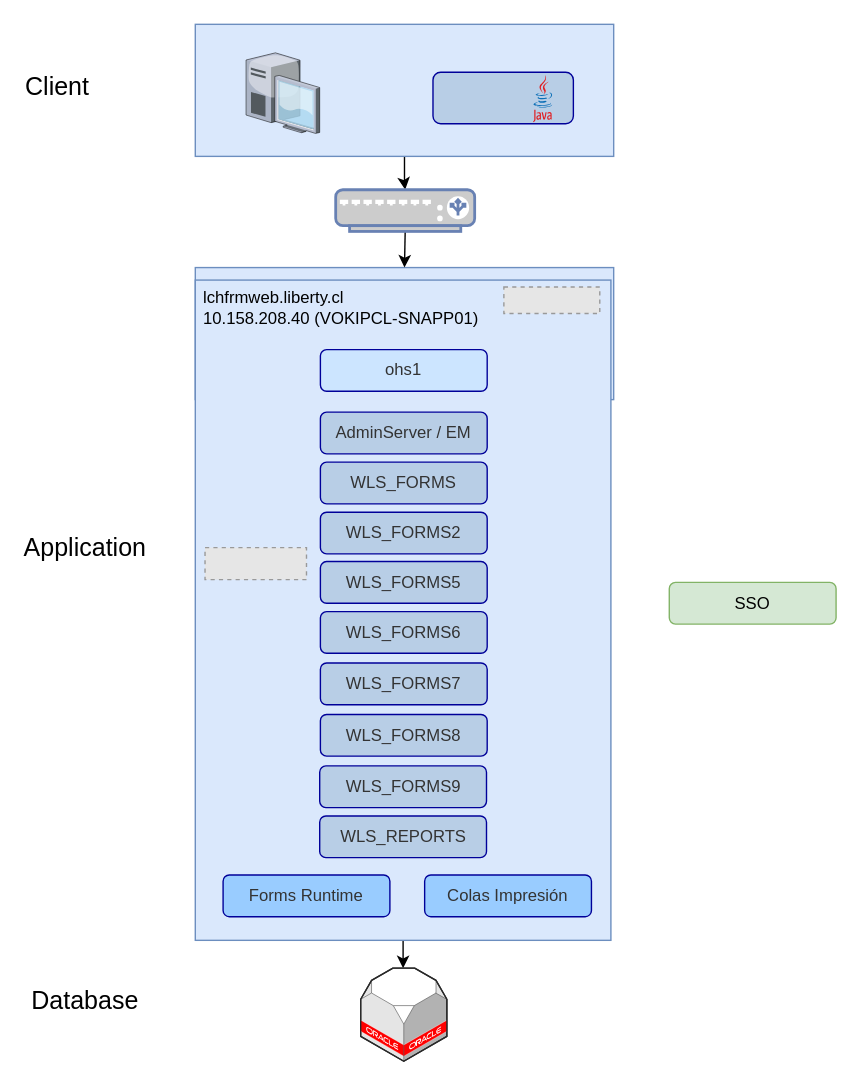
Some shapes in this 860 by 1086 pixel diagram are drawn without their labels. Grey dashed boxes stand in for pictures. The box of each missing label's shape, as (x1, y1, x2, y2) in pixels:
F5: (334, 188, 475, 232)
Java applet: (432, 71, 573, 124)
